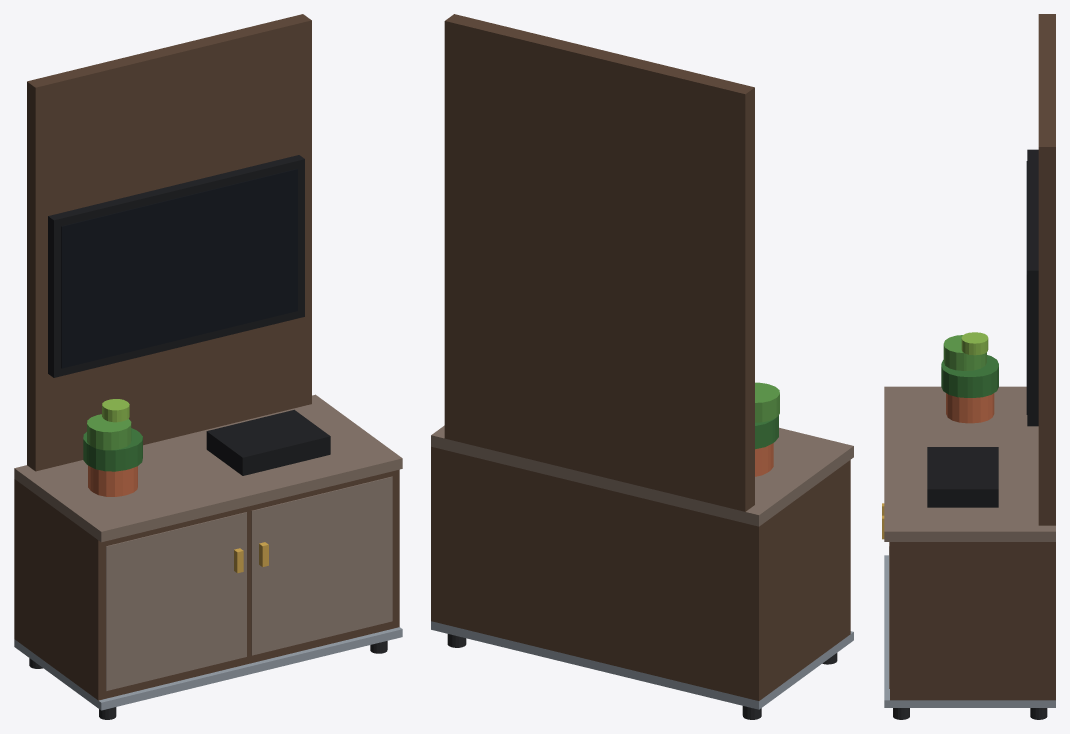
File: rolling_tv_unit.glb
3 renders of one model, left to right at view 1: azimuth 30°, elevation 25°; view 2: azimuth 150°, elevation 25°; view 3: azimuth 270°, elevation 25°, orthographic. The views are drawn at different scales.
Parts seen in each view (by area): view 1: rolling_tv_unit_Body; view 2: rolling_tv_unit_Body; view 3: rolling_tv_unit_Body.
Boxes of the visible parts, bbox=[...] form: rolling_tv_unit_Body: bbox=[14, 14, 402, 719]; rolling_tv_unit_Body: bbox=[431, 14, 853, 719]; rolling_tv_unit_Body: bbox=[882, 14, 1055, 719].
Bounding box in the file's own units: 1.2 × 2.2 × 0.608.
